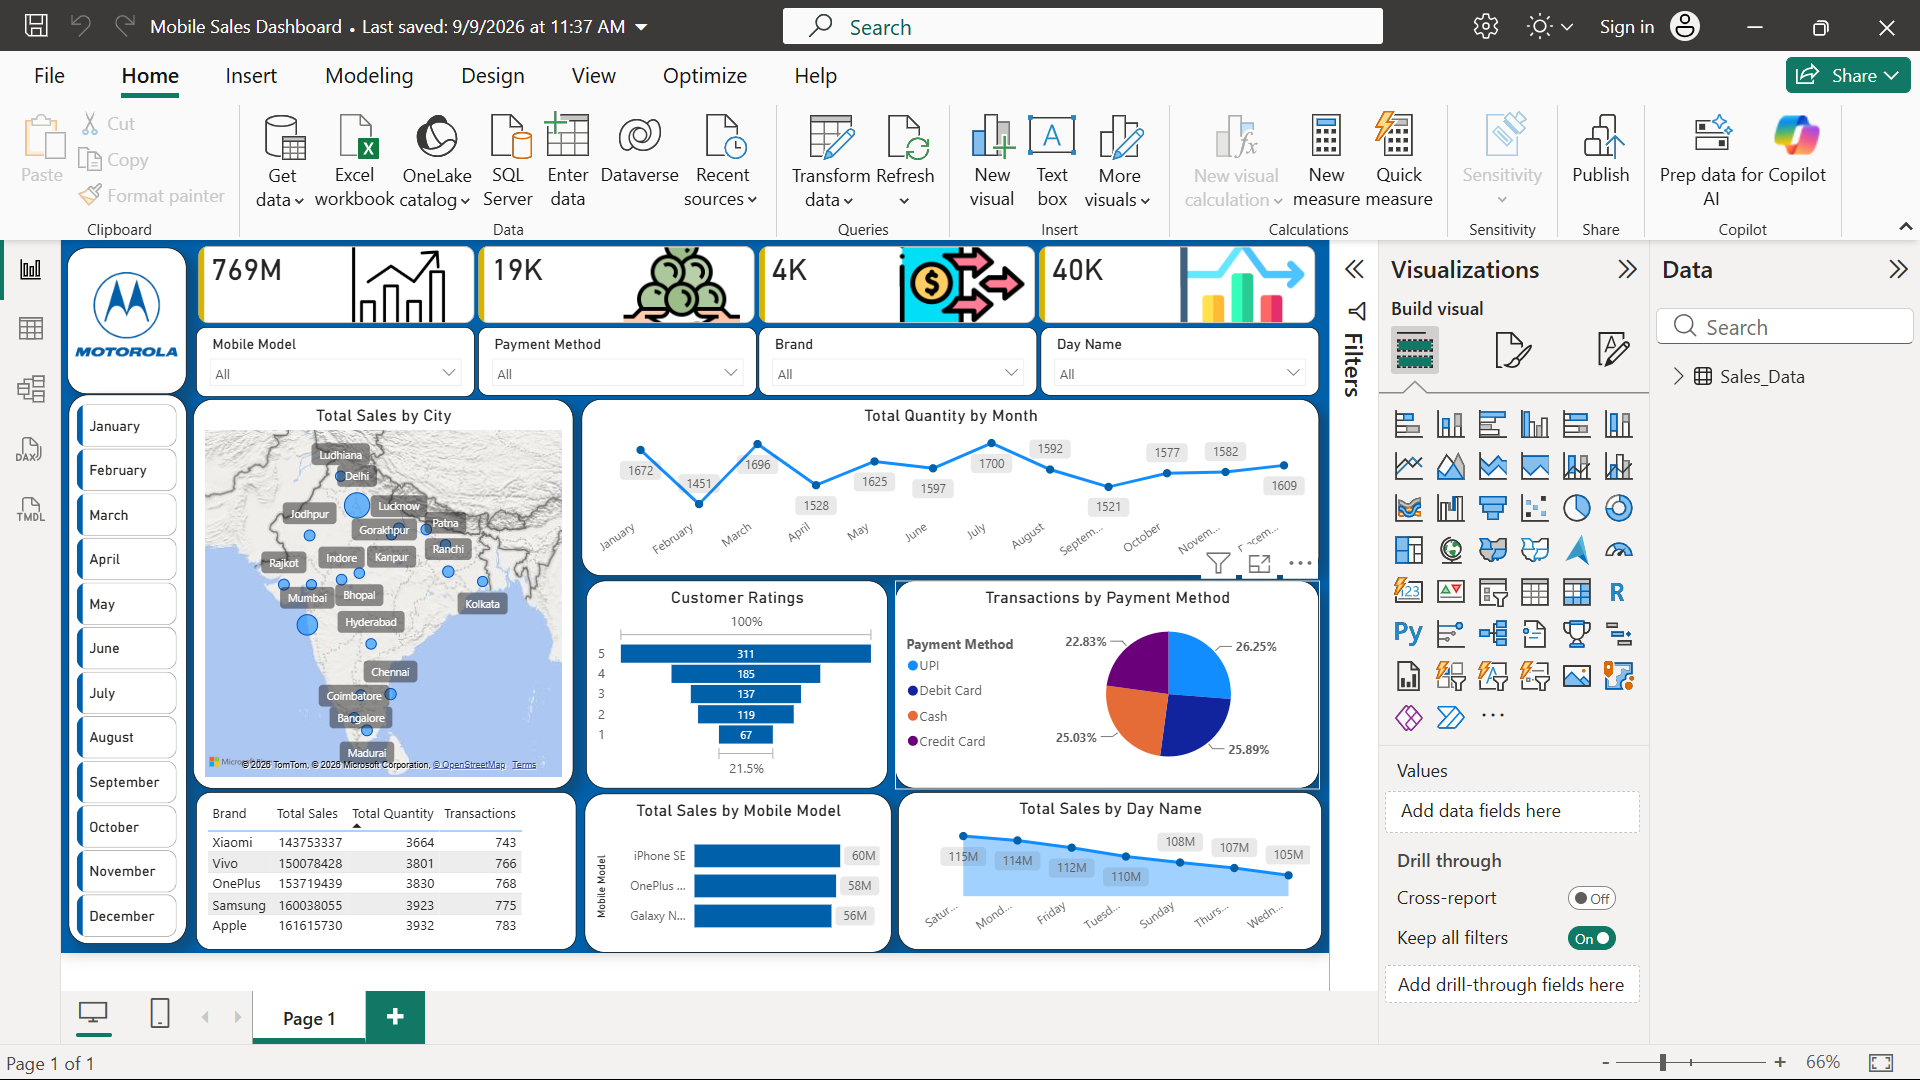

This screenshot's page, from the dashboard's own definition file:
{"tool":"powerbi","page":{"name":"Page 1","canvas":[1280,720],"ordinal":0},"visuals":[{"type":"shape","box":[5.5,6.9,120.8,148.2],"z":0},{"type":"image","box":[9.6,16.5,113.9,116.6],"z":1000},{"type":"shape","box":[6.9,156.4,119.4,554.4],"z":2000},{"type":"advancedSlicerVisual","fields":{"Values":["Sales_Data.Date.Variation.Date Hierarchy.Month"]},"box":[11,160.5,111.1,548.9],"z":3000},{"type":"cardVisual","fields":{"Data":["Sales_Data.Total Sales","Sales_Data.Total Quantity","Sales_Data.Transactions","Sales_Data.Average"]},"box":[134,5.6,1140.1,83.7],"z":4000},{"type":"map","fields":{"Category":["Sales_Data.City"],"Size":["Sales_Data.Total Sales"]},"box":[132.9,160.8,384.1,393.1],"z":5000},{"type":"lineChart","fields":{"Category":["Sales_Data.Date.Variation.Date Hierarchy.Month","Sales_Data.Date.Variation.Date Hierarchy.Day"],"Y":["Sales_Data.Total Quantity"]},"box":[525.9,160.8,744.8,178.7],"z":6000},{"type":"clusteredBarChart","fields":{"Category":["Sales_Data.Mobile Model"],"Y":["Sales_Data.Total Sales"]},"box":[528.3,558.5,310.1,160.5],"z":7000},{"type":"pieChart","fields":{"Category":["Sales_Data.Payment Method"],"Y":["Sales_Data.Transactions"]},"box":[842.5,344.4,428.1,209.9],"z":8000},{"type":"funnel","title":"Customer Ratings","fields":{"Category":["Sales_Data.Customer Ratings"],"Y":["CountNonNull(Sales_Data.Customer Ratings)"]},"box":[529.7,344.4,304.6,209.9],"z":9000},{"type":"areaChart","fields":{"Category":["Sales_Data.Day Name"],"Y":["Sales_Data.Total Sales"]},"box":[845.3,557.1,428.1,159.2],"z":10000},{"type":"tableEx","fields":{"Values":["Sales_Data.Brand","Sales_Data.Total Sales","Sales_Data.Total Quantity","Sales_Data.Transactions"]},"box":[135.8,557.1,384.2,159.2],"z":11000},{"type":"slicer","fields":{"Values":["Sales_Data.Mobile Model"]},"box":[136.2,87.1,281.4,70.3],"z":12000},{"type":"slicer","fields":{"Values":["Sales_Data.Payment Method"]},"box":[421,87.1,281.4,69.2],"z":13000},{"type":"slicer","fields":{"Values":["Sales_Data.Brand"]},"box":[703.5,87.1,281.4,69.2],"z":14000},{"type":"slicer","fields":{"Values":["Sales_Data.Day Name"]},"box":[988.2,87.1,281.4,69.2],"z":15000}]}

Visuals, with their boxes on the page's 1280x720 design canvas (x1, y1, x2, y2). These are canvas units, not pixel positions in the 1920x1080 screenshot, which may show the page scaled, cropped or inside an application window:
shape: detection(6, 7, 126, 155)
image: detection(10, 16, 124, 133)
shape: detection(7, 156, 126, 711)
advancedSlicerVisual - Sales_Data.Date.Variation.Date Hierarchy.Month: detection(11, 160, 122, 709)
cardVisual - Sales_Data.Total Sales x Sales_Data.Total Quantity: detection(134, 6, 1274, 89)
map - Sales_Data.City x Sales_Data.Total Sales: detection(133, 161, 517, 554)
lineChart - Sales_Data.Date.Variation.Date Hierarchy.Month x Sales_Data.Date.Variation.Date Hierarchy.Day: detection(526, 161, 1271, 340)
clusteredBarChart - Sales_Data.Mobile Model x Sales_Data.Total Sales: detection(528, 558, 838, 719)
pieChart - Sales_Data.Payment Method x Sales_Data.Transactions: detection(842, 344, 1271, 554)
"Customer Ratings" funnel: detection(530, 344, 834, 554)
areaChart - Sales_Data.Day Name x Sales_Data.Total Sales: detection(845, 557, 1273, 716)
tableEx - Sales_Data.Brand x Sales_Data.Total Sales: detection(136, 557, 520, 716)
slicer - Sales_Data.Mobile Model: detection(136, 87, 418, 157)
slicer - Sales_Data.Payment Method: detection(421, 87, 702, 156)
slicer - Sales_Data.Brand: detection(704, 87, 985, 156)
slicer - Sales_Data.Day Name: detection(988, 87, 1270, 156)
